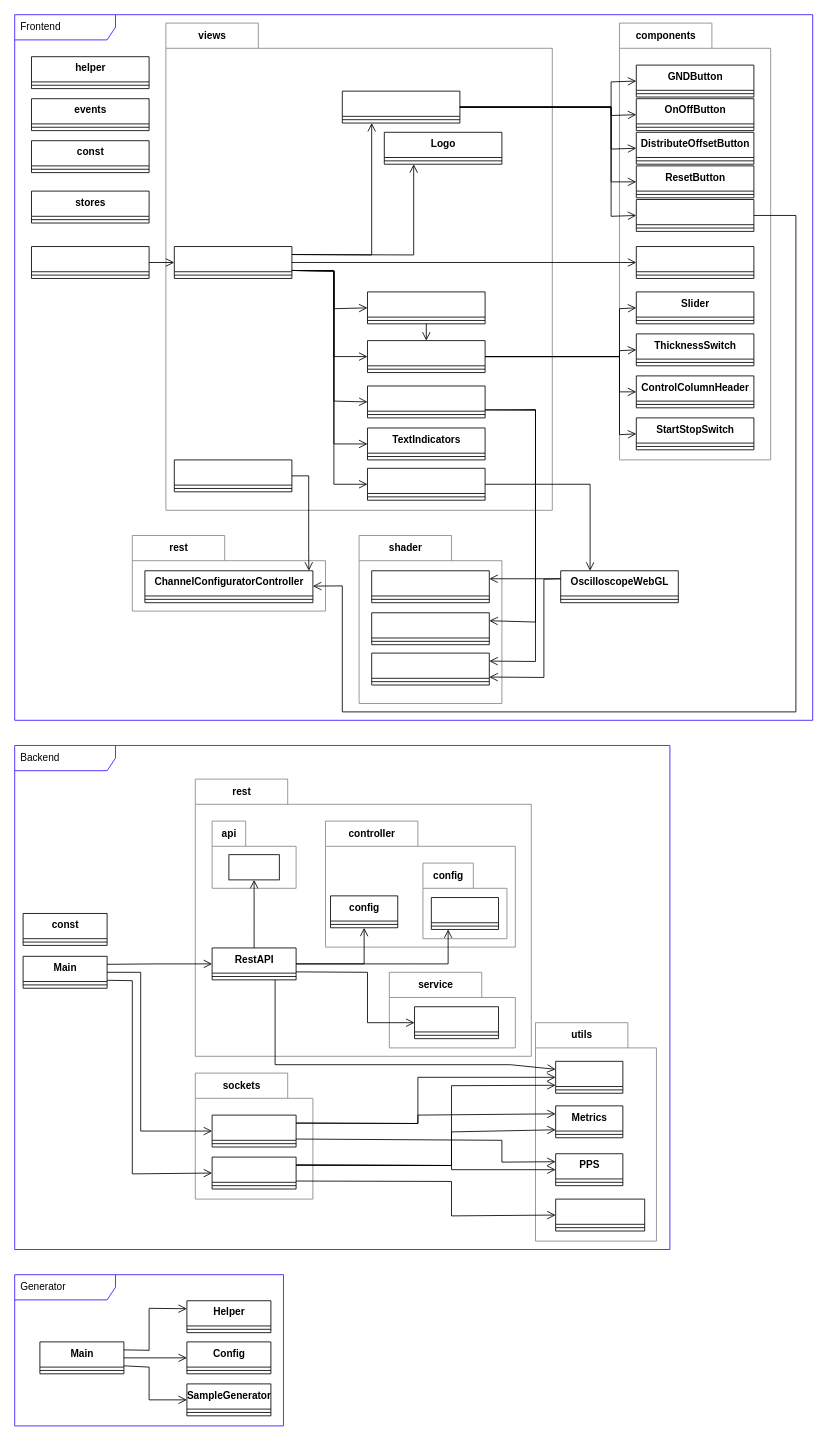
This 827x1441 diagram has some shape labels left out. The centre of each missing label's shape, as x and y in pixels:
"App" belongs at point 90,262.
"ChannelShader" belongs at point 430,586.
"ConfigServiceV1" belongs at point 456,1022.
"ControlPanelBottom" belongs at point 426,356.
"CoordinateSystem" belongs at point 426,483.
"DeliveryPackage" belongs at point 600,1214.
"ExpandableCntrolPanel" belongs at point 426,307.
"GeneralButtons" belongs at point 400,106.
"IndicatorShader" belongs at point 430,628.
"LineIndicators" belongs at point 426,401.
"Logger" belongs at point 589,1076.
"openapi" belongs at point 253,867.
"Oscilliscope" belongs at point 232,262.
"SettingPopup" belongs at point 232,475.
"SettingsButton" belongs at point 694,215.
"ShaderHelper" belongs at point 430,668.
"UDPSocket" belongs at point 253,1130.
"Waves" belongs at point 694,262.
"WebSocket" belongs at point 253,1172.
"{id}" belongs at point 464,913.
